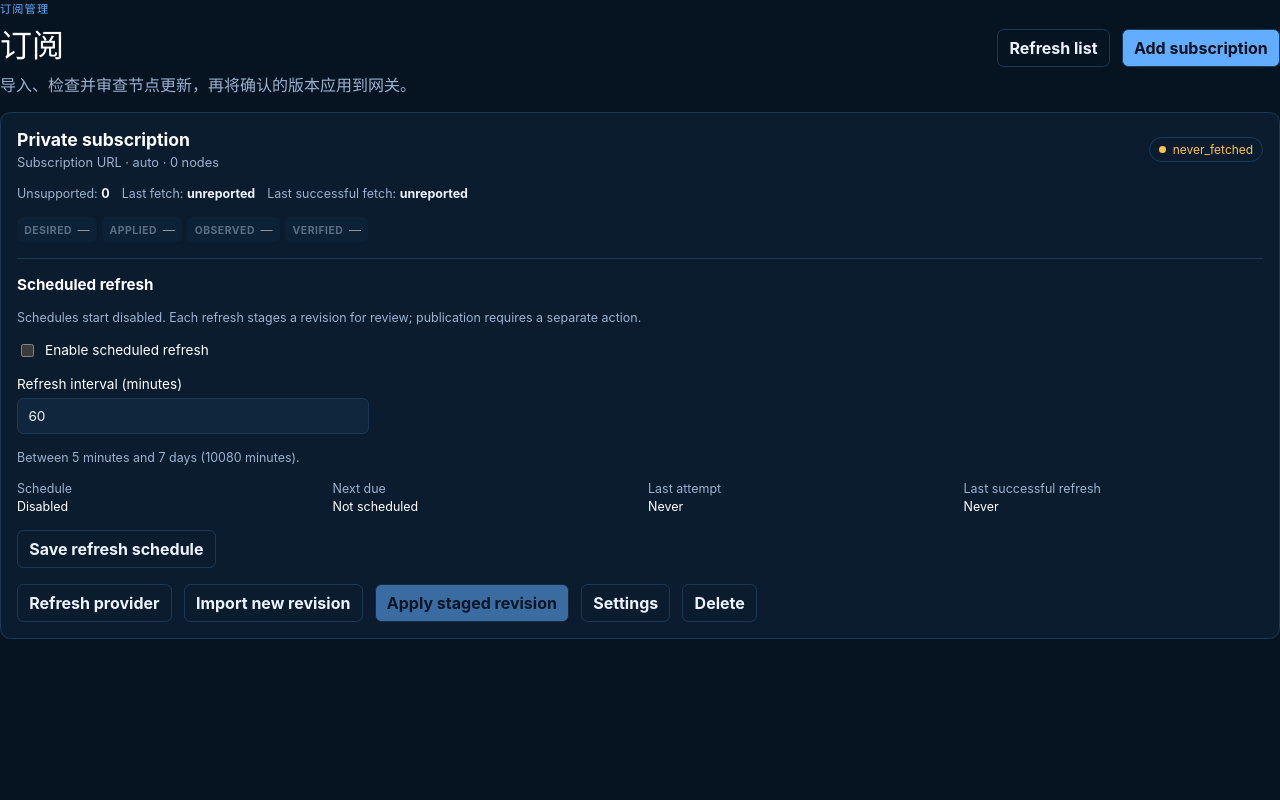
Test: provider settings and deletion › requires deletion acknowledgement and reports an in-use provider without removing its card
This screenshot has width=1280, height=800.
Click the button "Delete": [720, 603] box [682, 584, 757, 622]
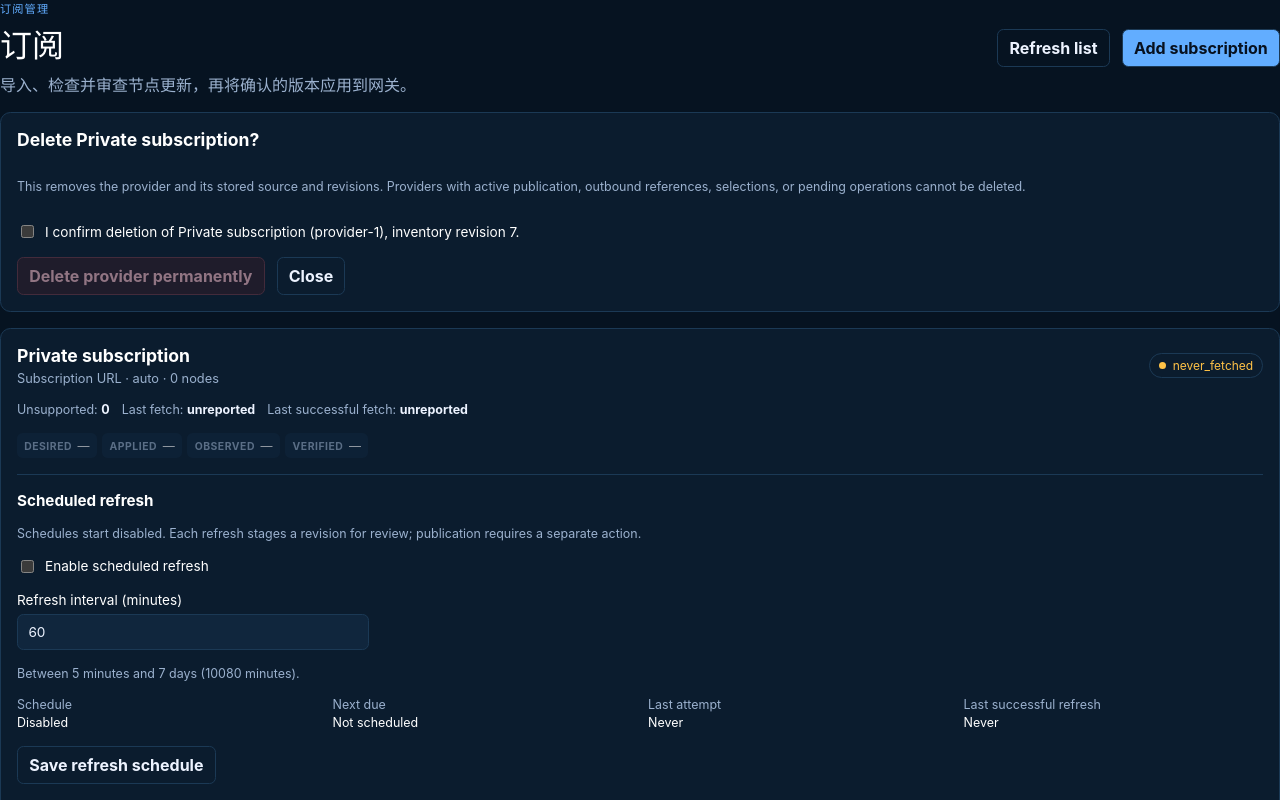
Check: the button "Delete provider permanently" is disabled, box [17, 257, 265, 295]
Click the button "Close": [311, 276] box [277, 257, 346, 295]
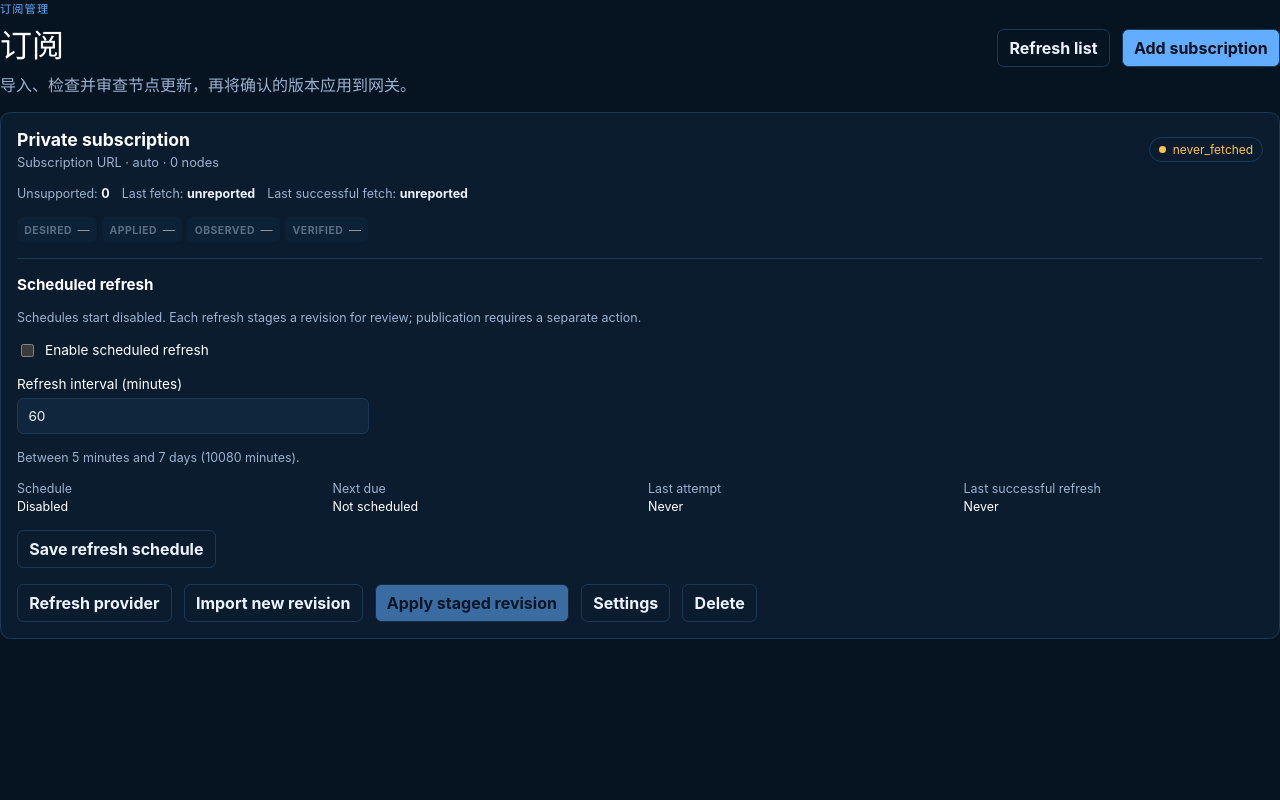
Click the button "Delete": [720, 603] box [682, 584, 757, 622]
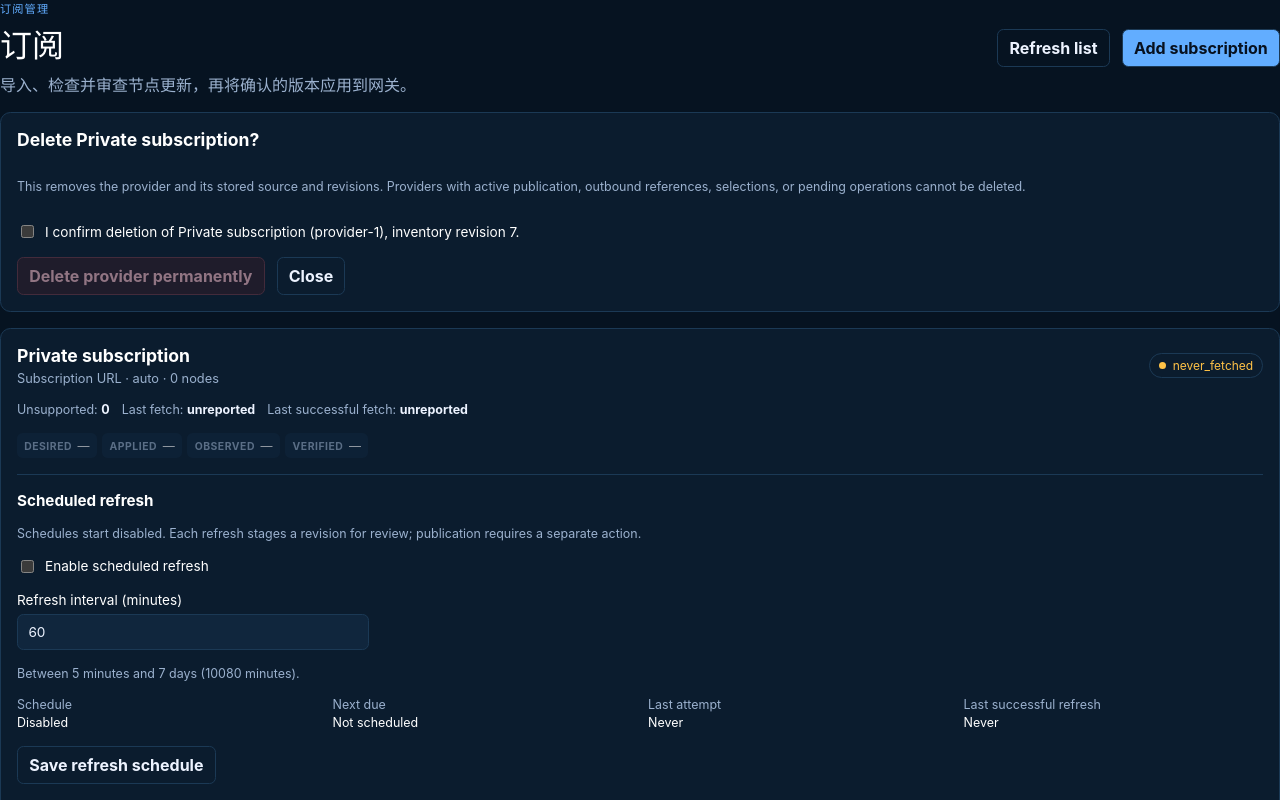
Click the 1st checkbox: [28, 232] box [21, 225, 34, 238]
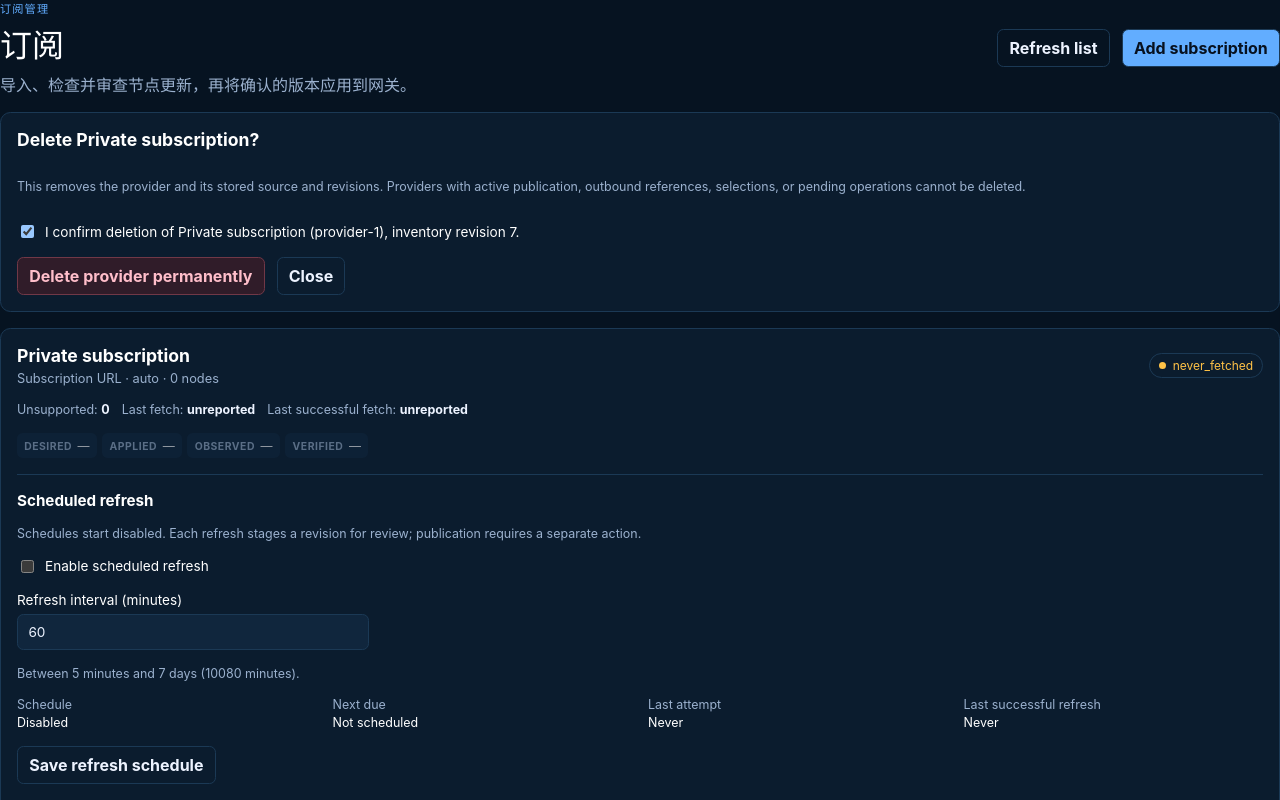
Submit the form named "Delete provider", box [0, 112, 1279, 312]
(page scrolled)
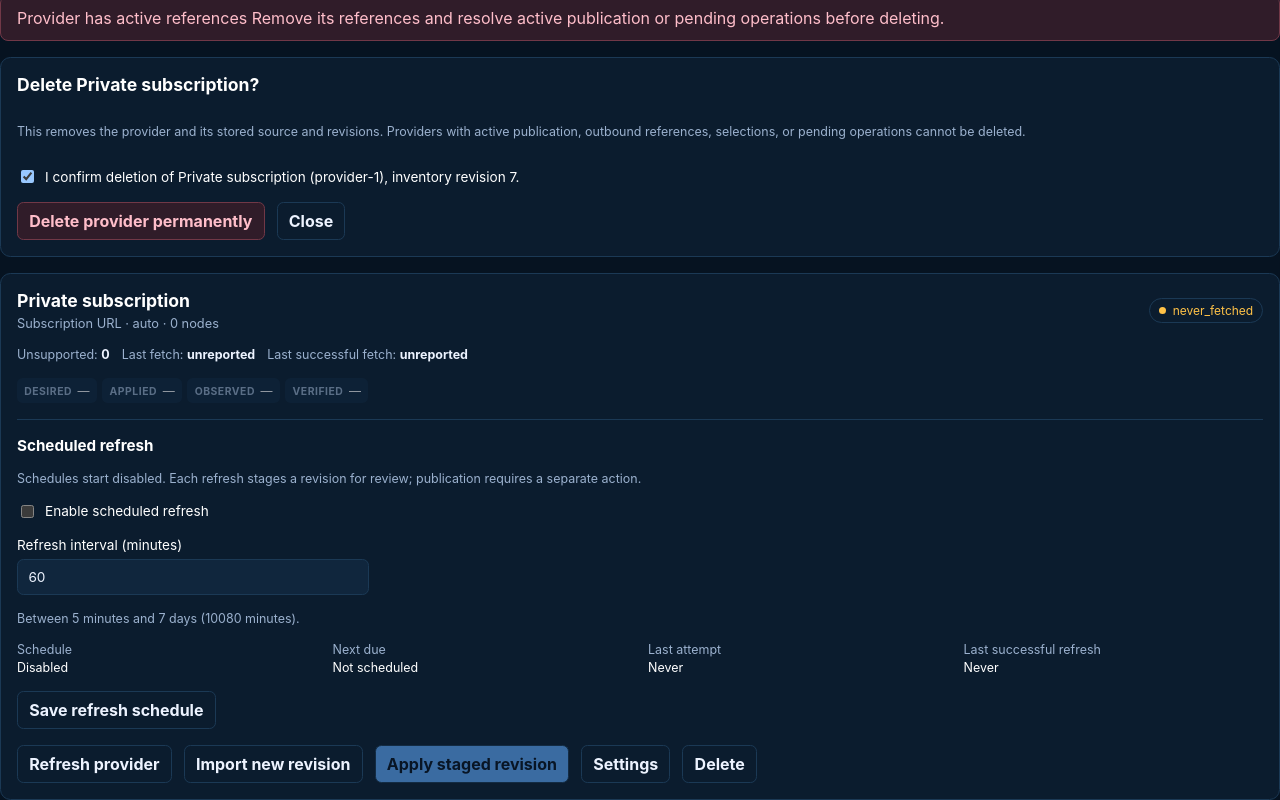
Check: the element named "Provider Private subscription" shows "Private subscription", box [17, 290, 190, 311]
Check: the text "Provider has active references" is shown, box [17, 8, 944, 28]
